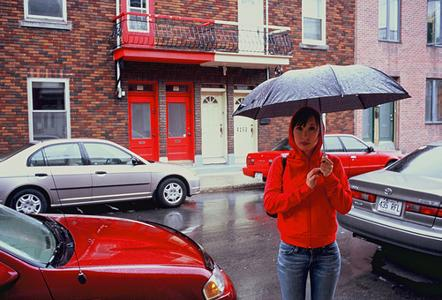person: (263, 106, 353, 300)
